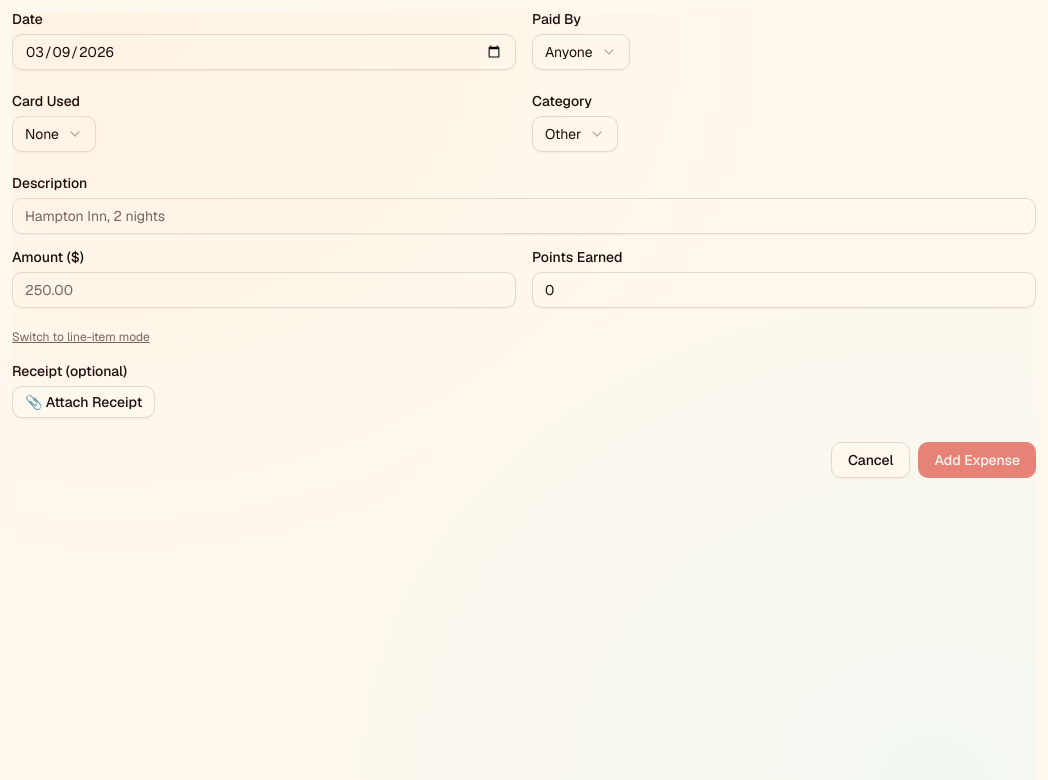
it: Line-item batch submit › shows error when from-receipt API returns an error
Click the button "Switch to line-item mode". click: (81, 337)
box: left=12, top=329, right=150, bottom=345
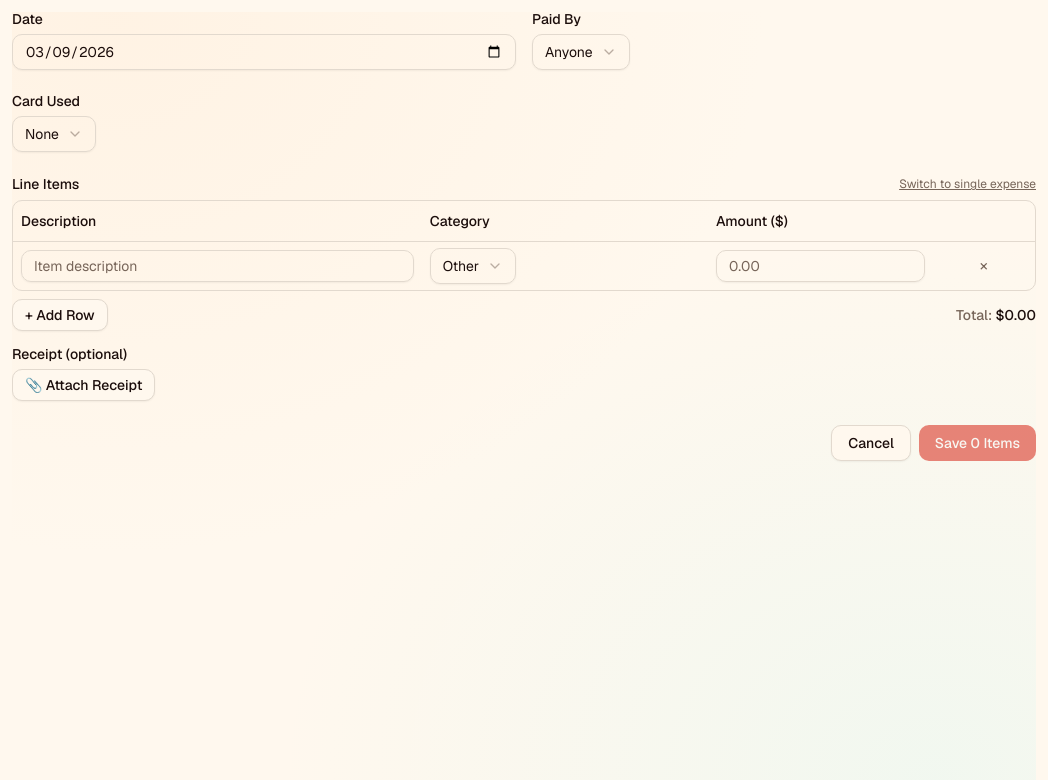
Expected: the field named "item 1 description" is shown
Type "Item A" into the field named "item 1 description". click: (217, 266)
box: left=21, top=250, right=414, bottom=282
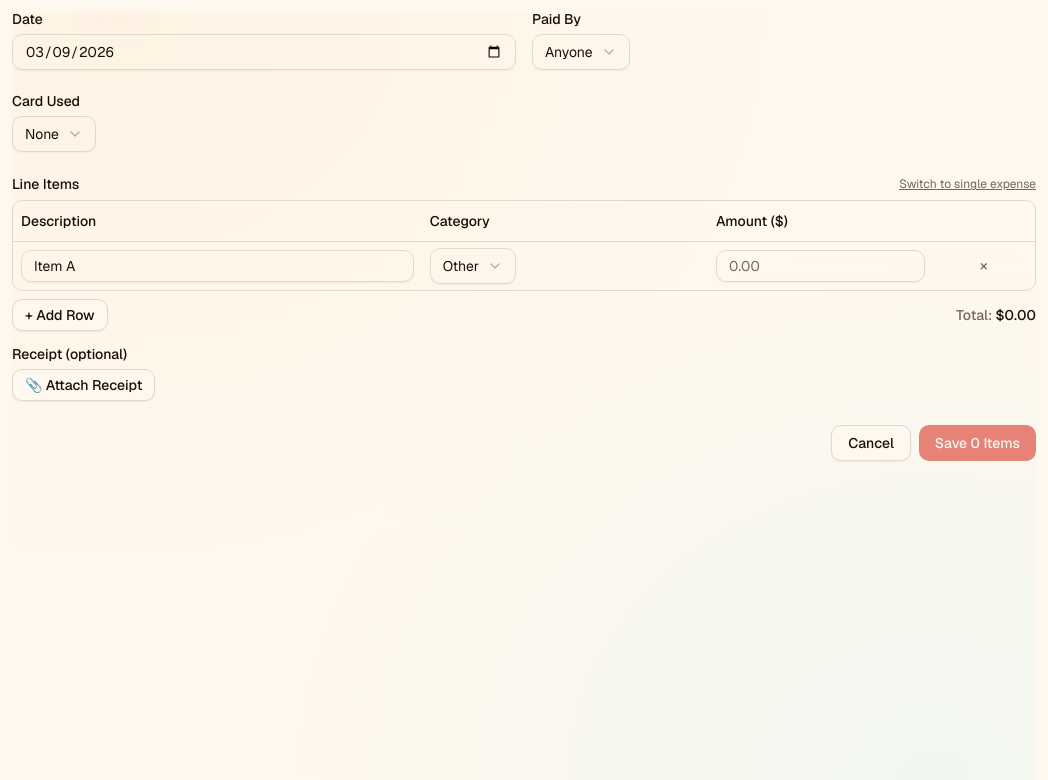
Type "10.00" into the number field named "item 1 amount". click: (820, 266)
box: left=716, top=250, right=925, bottom=282
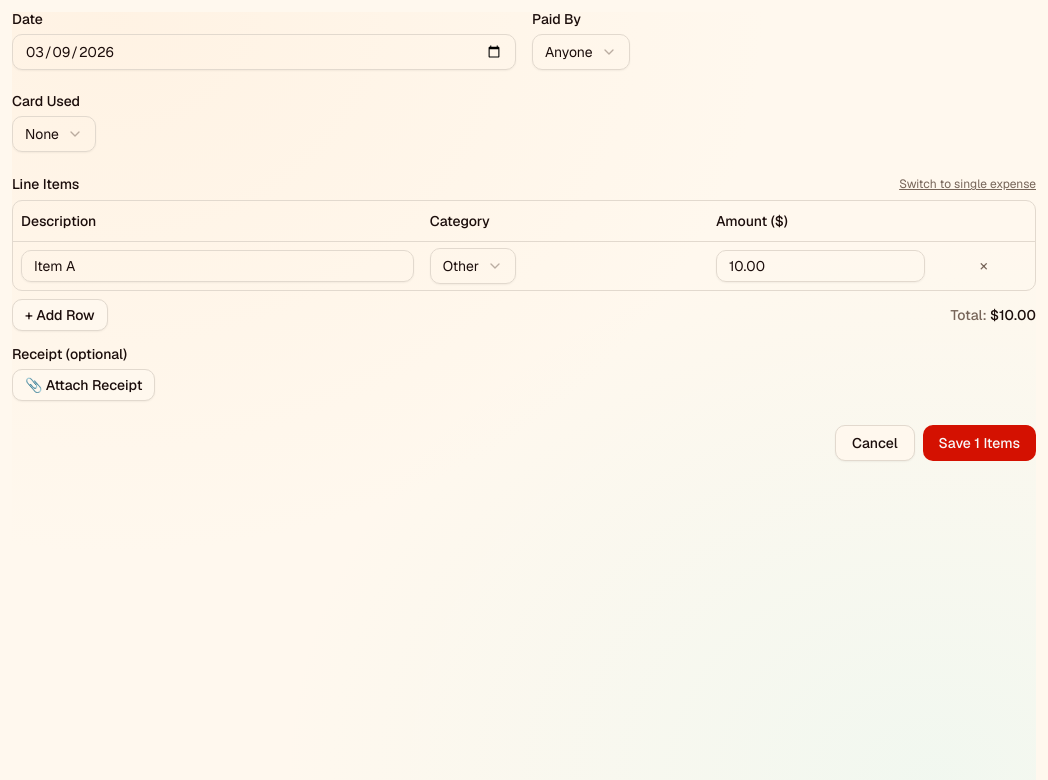
Expected: the button "Save 1 Items" is enabled
Click the button "Save 1 Items". click: (979, 442)
box: left=923, top=424, right=1036, bottom=460
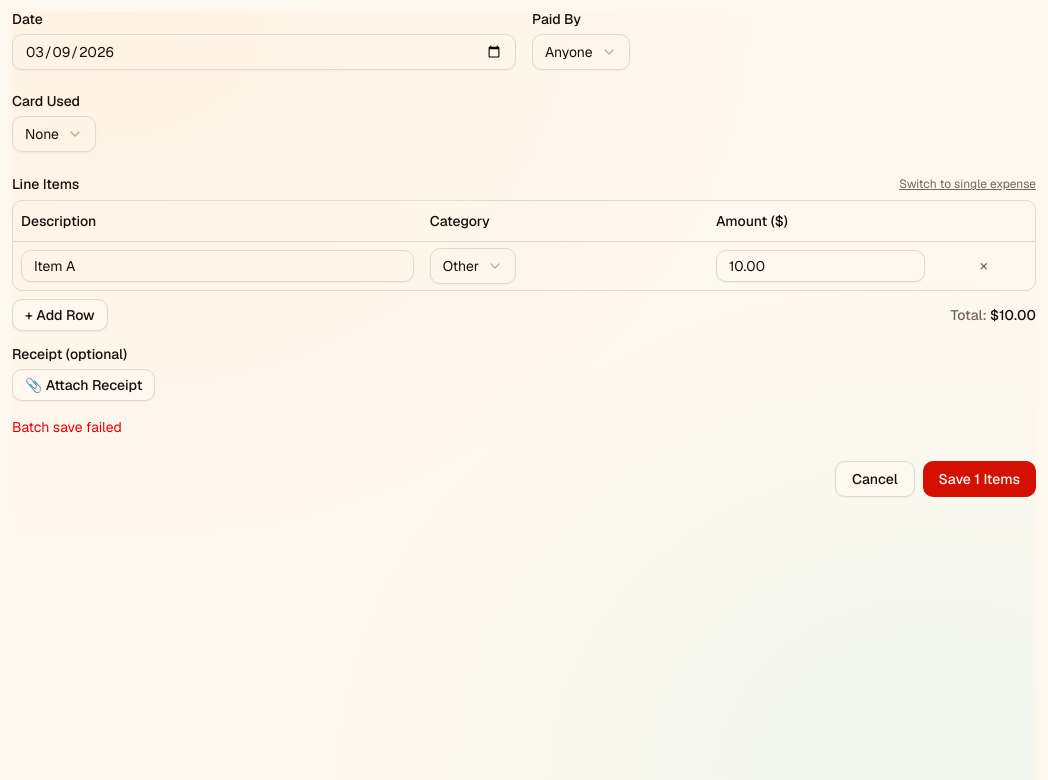
Expected: the text "Batch save failed" is shown, left=12, top=418, right=122, bottom=436
